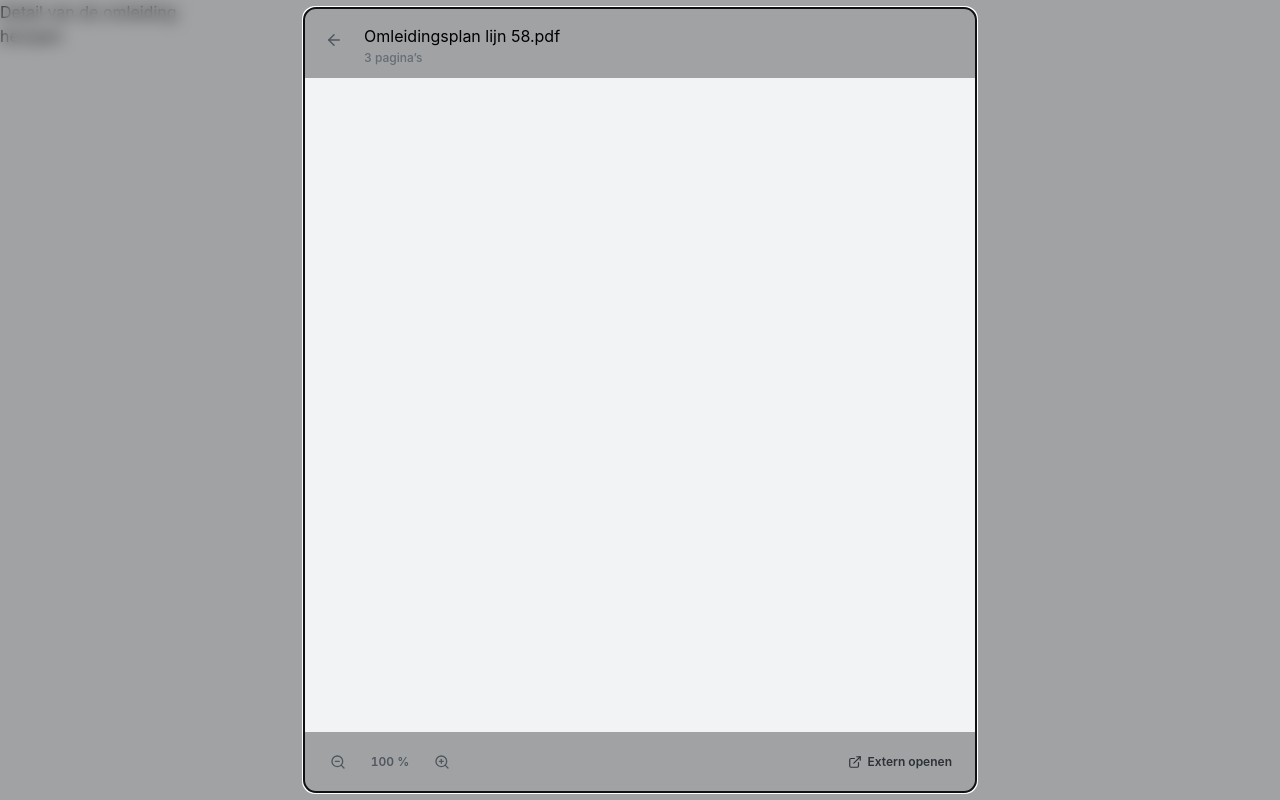
BijlageViewer: een bijlage in de app › de terugknop sluit de viewer en laat het detail staan
Expected: the text "3 pagina’s" is shown, [364,50,422,65]
Click the button named "Terug": x=334, y=40 [312,18,356,62]
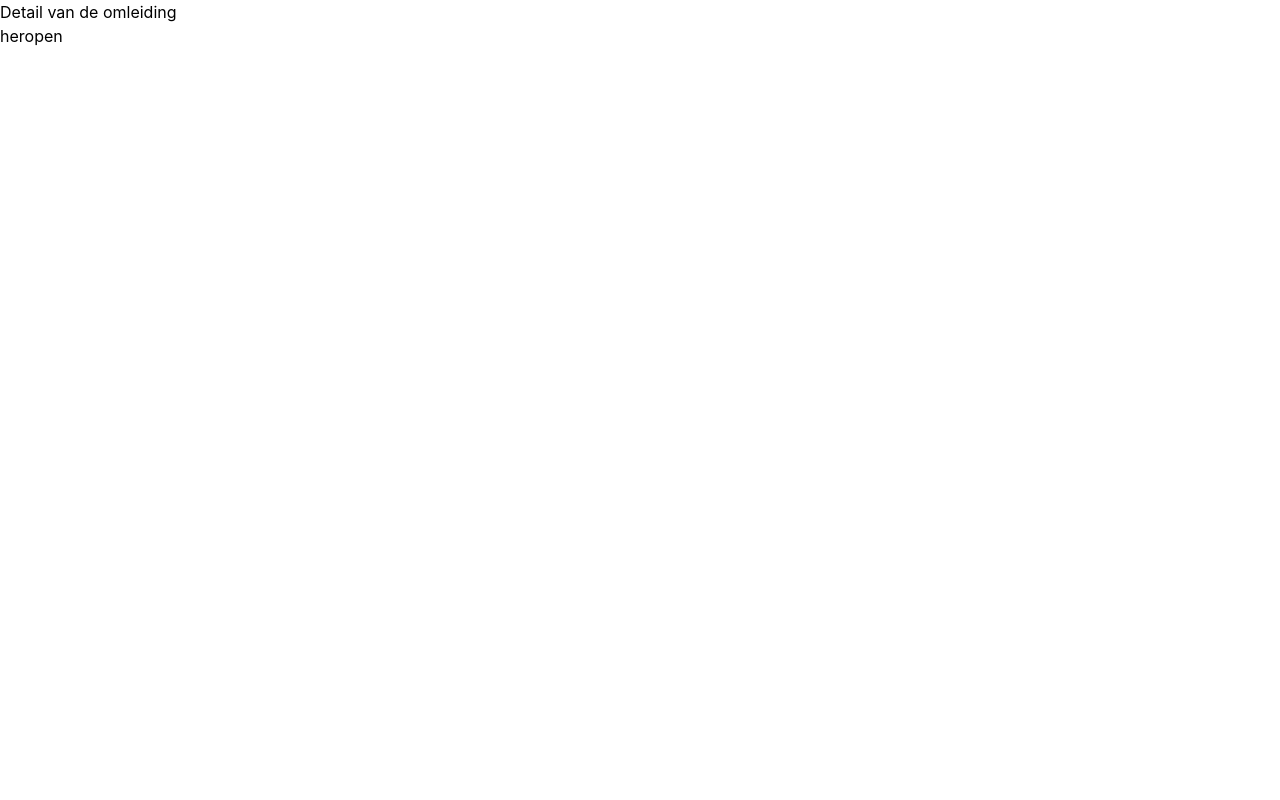
Expected: the text "Detail van de omleiding" is shown, [0,2,176,22]
Now the dialog is gone
